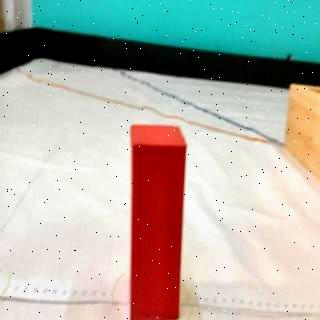redbox: (128, 122, 188, 320)
